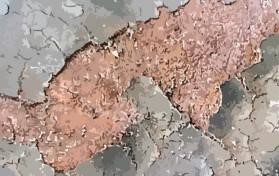Corrosion: (1, 1, 279, 176)
